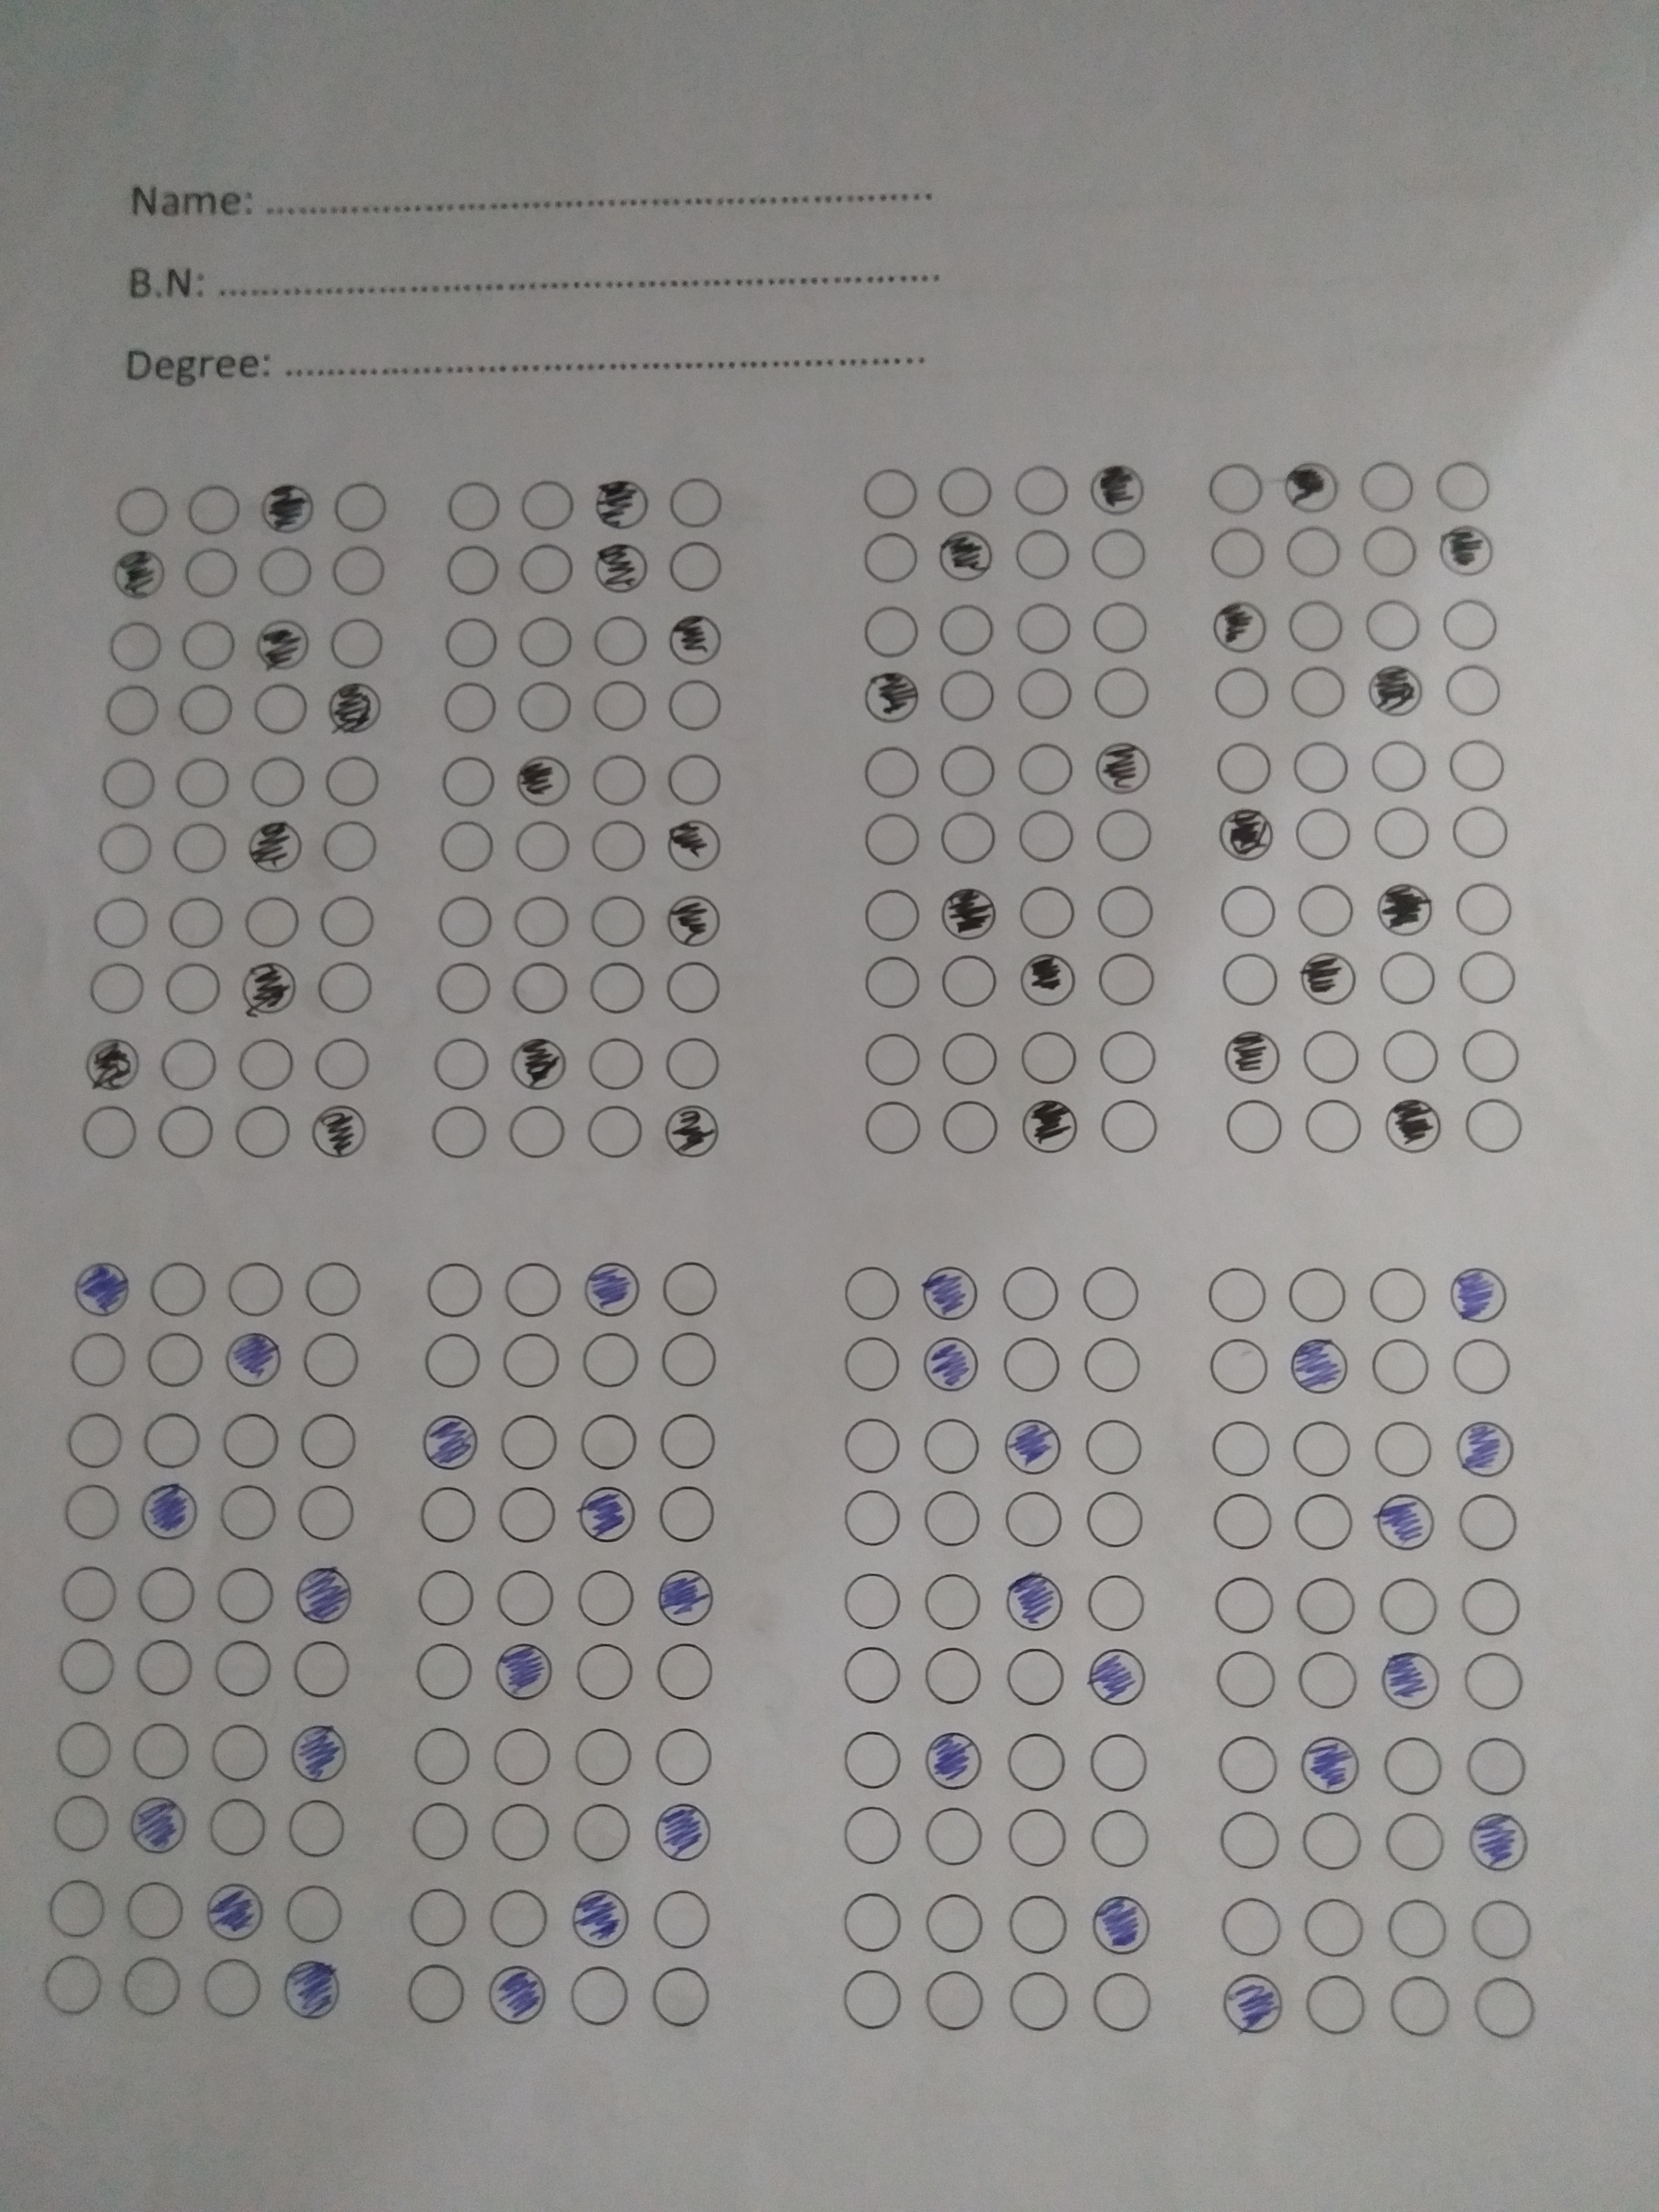not-c: (997, 1724, 1073, 1799), (416, 1254, 495, 1327), (1084, 1721, 1154, 1803), (917, 1801, 992, 1874), (1002, 1803, 1075, 1878), (1382, 1970, 1455, 2045), (202, 1791, 279, 1862), (1007, 806, 1084, 878), (37, 1951, 117, 2019), (993, 1890, 1073, 1958), (1295, 1893, 1371, 1963), (1377, 1806, 1453, 1876), (655, 1254, 727, 1327), (568, 1562, 641, 1634), (1467, 1973, 1540, 2045), (286, 1637, 361, 1707), (125, 1716, 197, 1787), (653, 1406, 725, 1477), (570, 1723, 641, 1794), (1466, 1893, 1535, 1966), (42, 1872, 117, 1940), (404, 1879, 472, 1954), (997, 1254, 1065, 1329), (1211, 1806, 1286, 1874), (650, 1480, 727, 1547), (990, 1332, 1066, 1399), (139, 1413, 211, 1482), (207, 1562, 279, 1632), (124, 1874, 193, 1946), (413, 1559, 484, 1629), (493, 1562, 563, 1634), (650, 1639, 720, 1710), (934, 737, 1006, 806), (1096, 805, 1166, 876), (650, 1965, 718, 2038), (836, 1642, 910, 1710), (915, 1642, 988, 1710), (209, 1480, 284, 1547), (655, 958, 730, 1024), (411, 1480, 486, 1547), (836, 1486, 911, 1552), (1209, 1731, 1284, 1797), (403, 1959, 472, 2029), (307, 1033, 378, 1101), (206, 1635, 277, 1703), (204, 1717, 275, 1785), (568, 1801, 640, 1869), (645, 1885, 713, 1956), (563, 1961, 634, 2029), (1079, 1258, 1150, 1325), (1006, 1966, 1073, 2038), (1215, 1648, 1286, 1716), (490, 1717, 554, 1792), (66, 1329, 136, 1397), (218, 1407, 288, 1475), (295, 1480, 364, 1548), (843, 1329, 911, 1399), (1377, 1019, 1445, 1089), (153, 1101, 225, 1167), (141, 1329, 213, 1395), (56, 1561, 127, 1627), (502, 1258, 568, 1329), (1084, 524, 1155, 590), (1087, 1972, 1159, 2038), (1375, 1573, 1446, 1639), (1209, 1489, 1281, 1555), (298, 1258, 371, 1322), (1075, 1416, 1148, 1480), (1080, 1487, 1154, 1552), (838, 1892, 911, 1956), (915, 1892, 988, 1956), (842, 1963, 906, 2036), (1371, 1733, 1445, 1797), (1290, 1491, 1363, 1555), (1208, 1576, 1290, 1634), (295, 1329, 369, 1392), (51, 1635, 125, 1698), (859, 951, 934, 1014), (1293, 1573, 1368, 1635), (295, 1407, 362, 1475), (134, 1634, 202, 1702), (49, 1787, 117, 1855), (584, 608, 652, 676), (584, 888, 652, 956), (418, 1331, 486, 1399), (1457, 1651, 1525, 1719), (1457, 1573, 1525, 1641), (59, 1479, 129, 1545), (586, 813, 655, 880), (481, 1886, 551, 1952), (915, 1414, 985, 1480), (1302, 1975, 1371, 2041), (1220, 1892, 1290, 1958), (938, 1026, 1009, 1090), (920, 1484, 985, 1555), (145, 1256, 218, 1318), (1293, 1806, 1366, 1869), (1361, 1334, 1436, 1395), (225, 1254, 293, 1320), (132, 1561, 200, 1627), (52, 1716, 120, 1782), (572, 1641, 640, 1707), (920, 1568, 988, 1634), (1004, 1644, 1072, 1710), (1462, 1735, 1528, 1803), (1373, 1418, 1441, 1484), (199, 1956, 268, 2020), (582, 1029, 652, 1094), (934, 597, 1004, 662), (1082, 1334, 1152, 1399), (1297, 1646, 1361, 1716), (1216, 1094, 1286, 1158), (1291, 878, 1361, 942), (1284, 521, 1349, 590), (430, 678, 502, 740), (572, 1409, 643, 1472), (1011, 667, 1082, 730), (1208, 1420, 1279, 1482), (660, 472, 734, 533), (518, 474, 584, 540), (1354, 455, 1420, 521), (587, 679, 652, 747), (662, 679, 730, 744), (411, 1721, 474, 1791), (653, 1724, 716, 1794), (857, 1097, 927, 1160), (584, 960, 655, 1021), (659, 538, 732, 597), (164, 890, 228, 956), (160, 960, 225, 1026), (284, 1881, 349, 1947), (659, 1331, 723, 1397), (836, 1414, 901, 1480), (840, 1726, 904, 1792), (842, 1804, 908, 1869), (922, 1966, 986, 2033), (1457, 1491, 1521, 1557), (1370, 799, 1436, 864), (443, 477, 511, 540), (932, 665, 1000, 728), (936, 808, 1004, 871), (1002, 1489, 1070, 1552), (1084, 1808, 1152, 1871), (1361, 596, 1429, 658), (1354, 523, 1422, 585), (486, 1804, 556, 1865), (1215, 883, 1284, 944), (511, 681, 582, 740), (1007, 524, 1072, 589), (1094, 949, 1159, 1014), (840, 1568, 904, 1632), (317, 752, 383, 815), (284, 1799, 350, 1862), (122, 1952, 185, 2019), (579, 1325, 641, 1392), (863, 1026, 929, 1089), (1385, 1897, 1448, 1963), (1206, 1336, 1272, 1399), (1455, 948, 1521, 1010), (1213, 658, 1276, 725), (244, 745, 305, 813), (587, 747, 655, 808), (1011, 599, 1079, 660), (1087, 601, 1155, 662), (857, 745, 925, 806), (1086, 1569, 1147, 1637), (1366, 1266, 1434, 1327), (1283, 596, 1351, 657), (1293, 1029, 1370, 1083), (1206, 1266, 1276, 1325), (1283, 1266, 1352, 1325), (108, 615, 171, 679), (234, 1035, 298, 1097), (437, 610, 502, 672), (512, 610, 577, 672), (664, 751, 728, 813), (436, 892, 498, 956), (939, 953, 1004, 1015), (1096, 1026, 1161, 1089), (939, 1097, 1004, 1160), (842, 1263, 906, 1325), (1460, 1022, 1523, 1087), (443, 540, 509, 601), (505, 958, 572, 1019), (1016, 1028, 1082, 1089), (1288, 1420, 1354, 1480), (1462, 1096, 1528, 1157), (497, 1482, 556, 1550), (1283, 662, 1351, 721), (1286, 737, 1356, 794), (171, 820, 234, 883), (500, 1407, 563, 1470), (1303, 1096, 1366, 1158), (314, 892, 378, 953), (314, 958, 378, 1019), (509, 892, 573, 953), (413, 1642, 477, 1703), (857, 601, 922, 662), (859, 885, 920, 949), (1098, 1097, 1162, 1158), (176, 617, 242, 676), (324, 611, 390, 671), (502, 1331, 568, 1390), (1014, 883, 1080, 942), (1213, 737, 1279, 796), (98, 756, 166, 813), (1216, 948, 1284, 1005), (92, 890, 155, 951), (659, 1035, 721, 1096), (411, 1799, 472, 1862), (1011, 737, 1073, 798), (1455, 878, 1516, 941), (1452, 799, 1514, 860), (1206, 458, 1269, 519), (443, 747, 502, 812), (512, 817, 577, 876), (1094, 881, 1159, 941), (1293, 803, 1358, 862), (101, 685, 167, 742), (329, 479, 397, 535), (96, 819, 157, 880), (64, 1411, 125, 1472), (861, 810, 922, 871), (1452, 1336, 1513, 1397), (321, 817, 383, 876), (85, 960, 148, 1019), (519, 540, 579, 603), (436, 960, 495, 1022), (429, 1033, 491, 1092), (429, 1101, 488, 1163), (1443, 737, 1506, 796), (232, 1104, 296, 1162), (861, 531, 925, 589), (1439, 662, 1504, 719), (254, 543, 321, 599), (1364, 737, 1431, 792), (324, 545, 392, 599), (176, 678, 237, 737), (589, 1101, 648, 1162), (1011, 462, 1072, 521), (1441, 594, 1502, 653), (1432, 458, 1493, 517), (242, 894, 305, 951), (1373, 953, 1439, 1007), (1209, 524, 1269, 583), (113, 484, 174, 542), (931, 465, 992, 523), (185, 543, 247, 599), (505, 1104, 568, 1160), (859, 465, 922, 521), (171, 758, 235, 812), (157, 1038, 221, 1092), (249, 681, 315, 733), (185, 481, 240, 542), (78, 1104, 141, 1158), (443, 817, 497, 878), (1093, 667, 1152, 721)
taken-c: (279, 1952, 343, 2022), (204, 1878, 267, 1944), (568, 1885, 631, 1951), (1089, 1641, 1150, 1709), (1091, 1892, 1152, 1959), (486, 1961, 549, 2026), (1222, 1972, 1284, 2036), (1466, 1811, 1530, 1874), (1378, 1649, 1443, 1712), (295, 1561, 355, 1627), (1000, 1413, 1063, 1475), (1448, 1264, 1511, 1327), (129, 1791, 190, 1855), (660, 1099, 721, 1162), (493, 1639, 554, 1702), (657, 1564, 718, 1627), (924, 1730, 985, 1792), (1302, 1733, 1363, 1796), (1453, 1418, 1516, 1479), (1006, 1569, 1065, 1634), (655, 1799, 713, 1865), (289, 1723, 350, 1784), (920, 1334, 981, 1395), (509, 1033, 568, 1096), (141, 1479, 200, 1541), (422, 1413, 481, 1475), (920, 1261, 979, 1324), (1290, 1334, 1349, 1397), (861, 667, 922, 726), (1216, 803, 1277, 862), (584, 1258, 643, 1318), (1375, 1491, 1436, 1550), (1021, 1096, 1080, 1155), (1283, 456, 1342, 516), (1300, 949, 1359, 1008), (1222, 1028, 1281, 1087), (1384, 1096, 1443, 1155), (579, 1486, 638, 1545), (1091, 738, 1152, 796), (1375, 881, 1436, 939), (71, 1259, 132, 1317), (254, 615, 314, 672), (84, 1035, 141, 1094), (939, 883, 999, 941), (1021, 949, 1079, 1008), (1366, 660, 1425, 718), (225, 1329, 284, 1386), (247, 817, 305, 874), (240, 958, 298, 1015), (310, 1103, 368, 1160), (666, 610, 723, 667), (1087, 462, 1147, 517), (1436, 523, 1495, 578), (256, 481, 317, 535), (514, 752, 572, 808), (666, 819, 723, 874), (666, 892, 723, 948), (936, 528, 993, 583), (1211, 597, 1269, 653), (108, 547, 167, 601), (591, 540, 650, 594), (326, 683, 383, 737), (591, 479, 650, 531)
